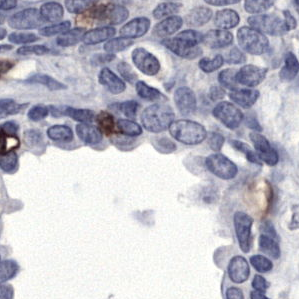Lymphocyte: (95, 110, 118, 136)
